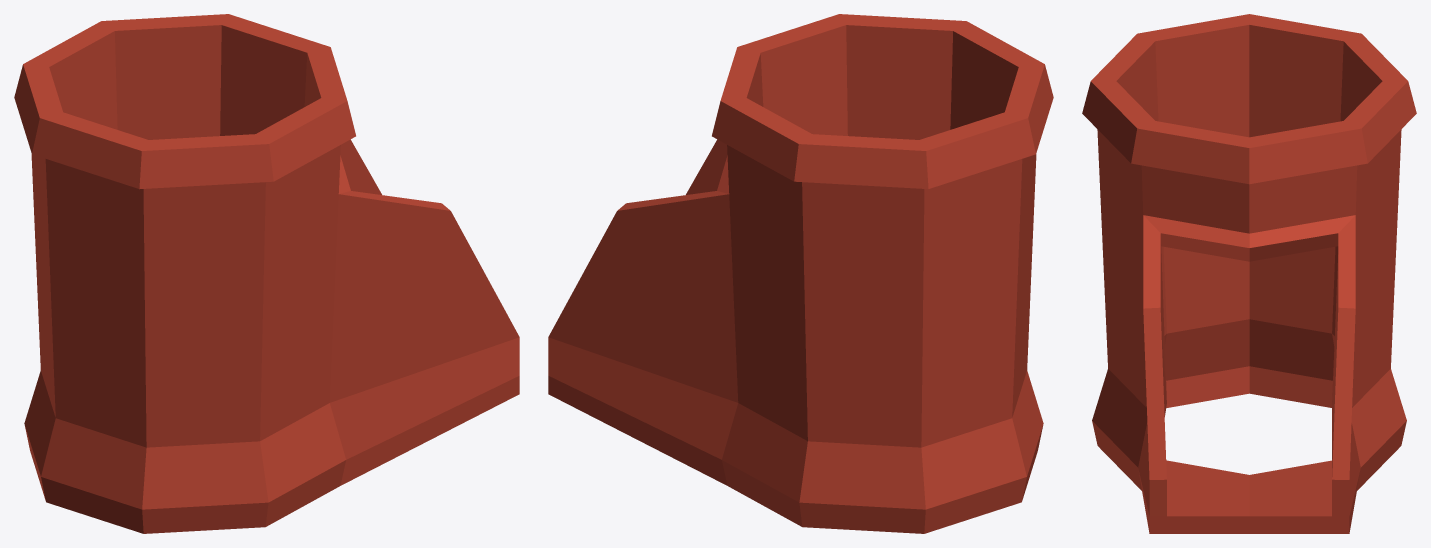
The model's file is SM_Prop_Rubbish_Chute_02.fbx.
3 views of the same model, side by side, from view 1: azimuth 30°, elevation 25°; view 2: azimuth 150°, elevation 25°; view 3: azimuth 270°, elevation 25° (orthographic). The views are drawn at different scales.
Visible parts, largest first — view 1: SM_Prop_Rubbish_Chute_02; view 2: SM_Prop_Rubbish_Chute_02; view 3: SM_Prop_Rubbish_Chute_02.
Part boxes in pixels (<box>): SM_Prop_Rubbish_Chute_02: <box>14,14,519,533</box>; SM_Prop_Rubbish_Chute_02: <box>548,14,1053,533</box>; SM_Prop_Rubbish_Chute_02: <box>1082,14,1416,533</box>.
Size of the model in its own units: 110 by 93.29 by 77.59.
